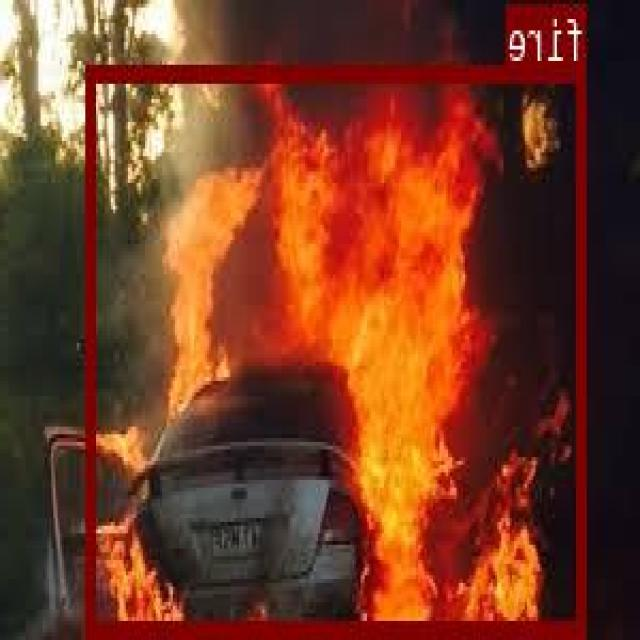fire: (90, 63, 588, 632)
